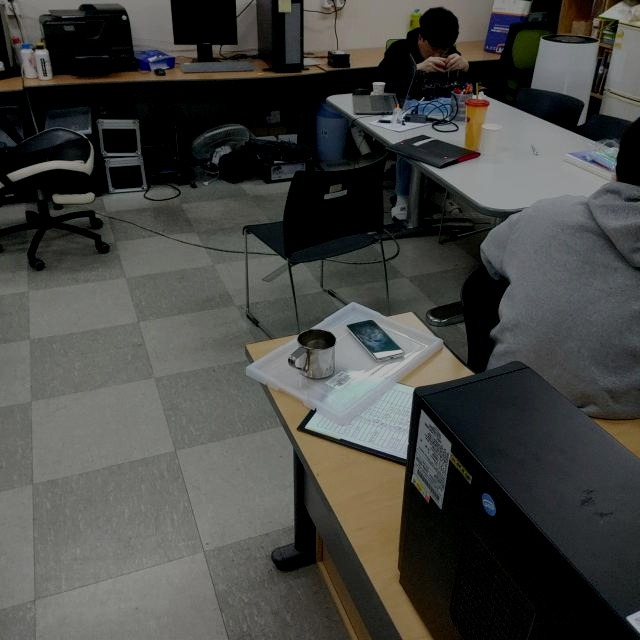cup: (289, 326, 337, 381)
phone: (348, 317, 401, 360)
